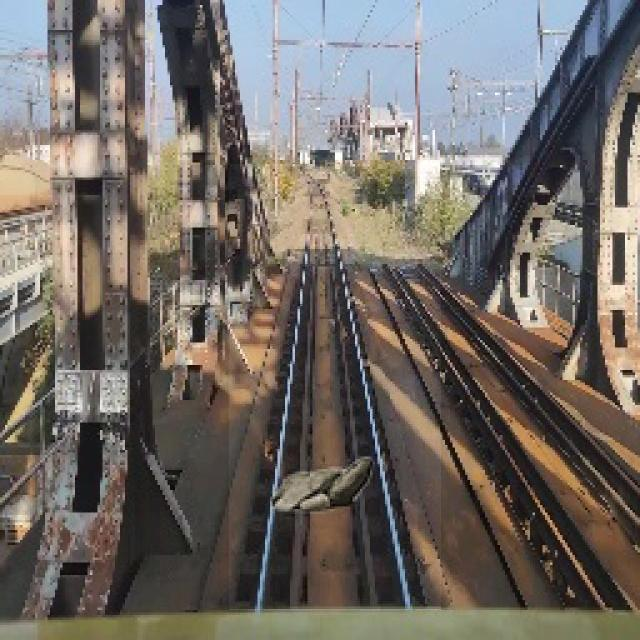rail: (230, 165, 442, 611)
